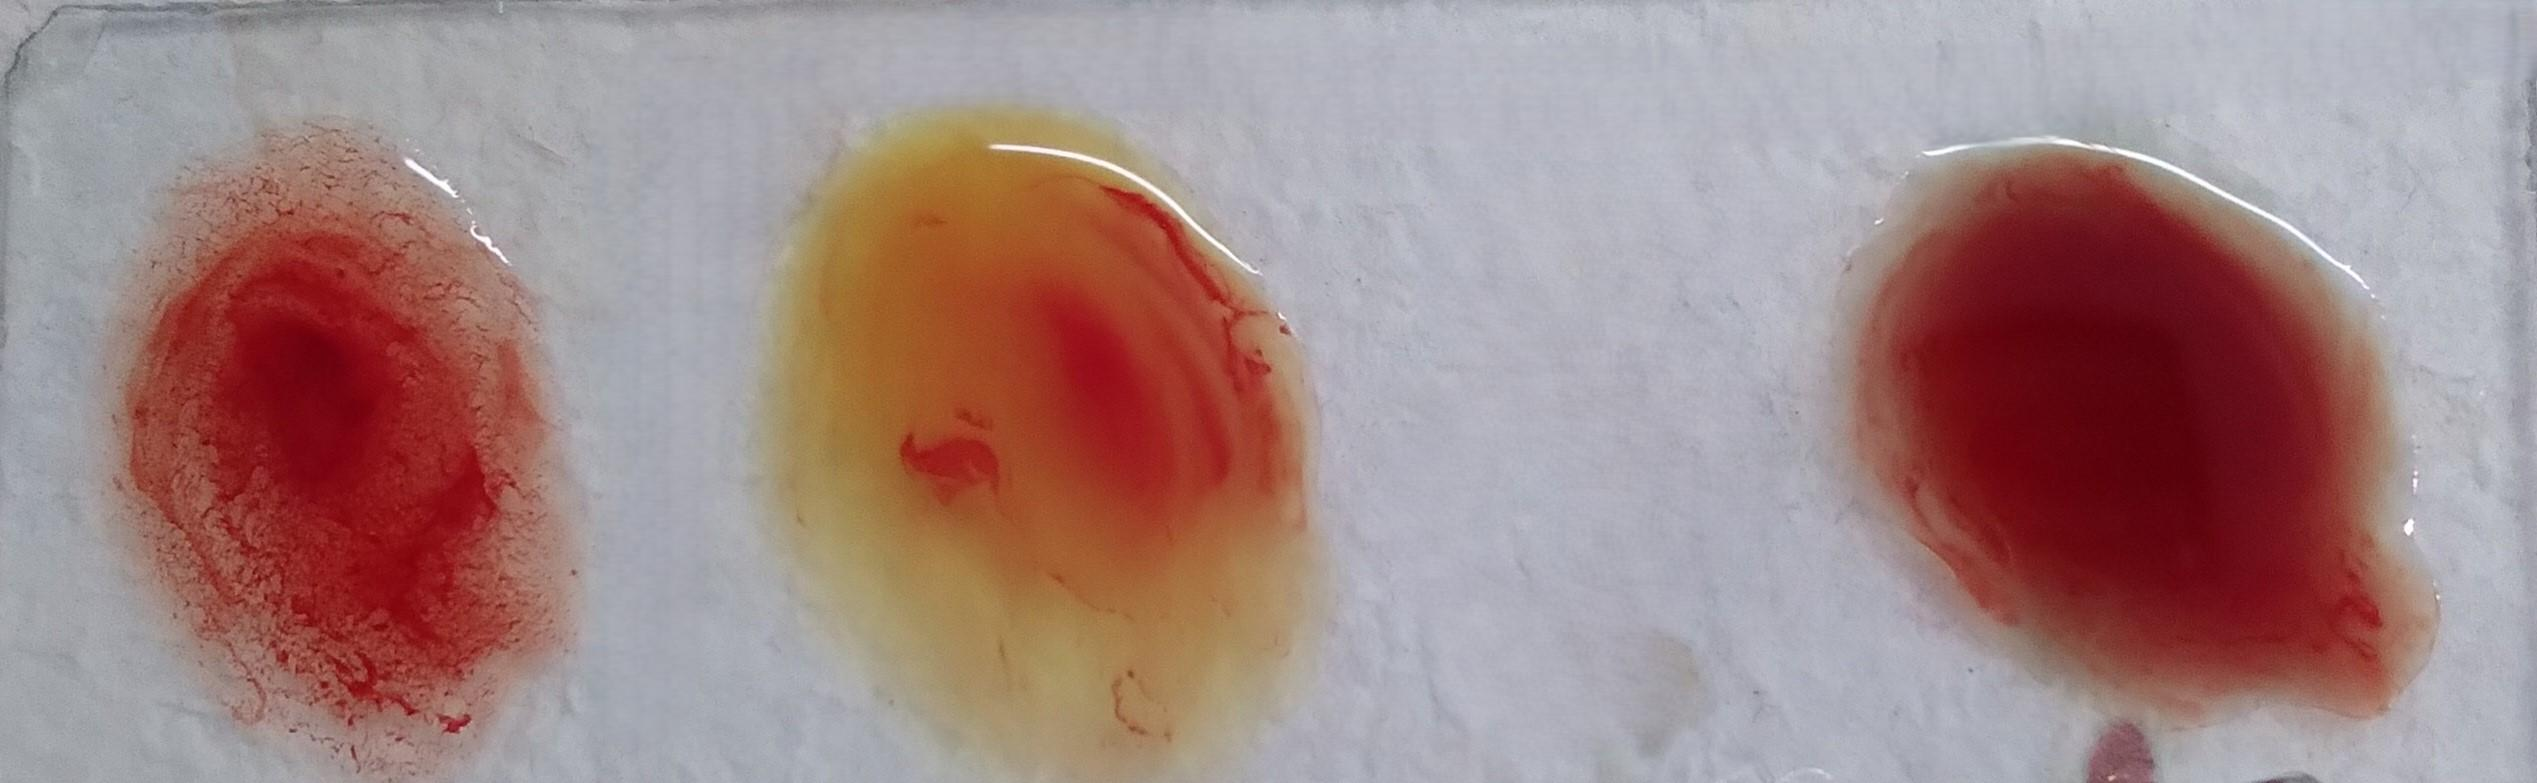D: (128, 159, 553, 757)
